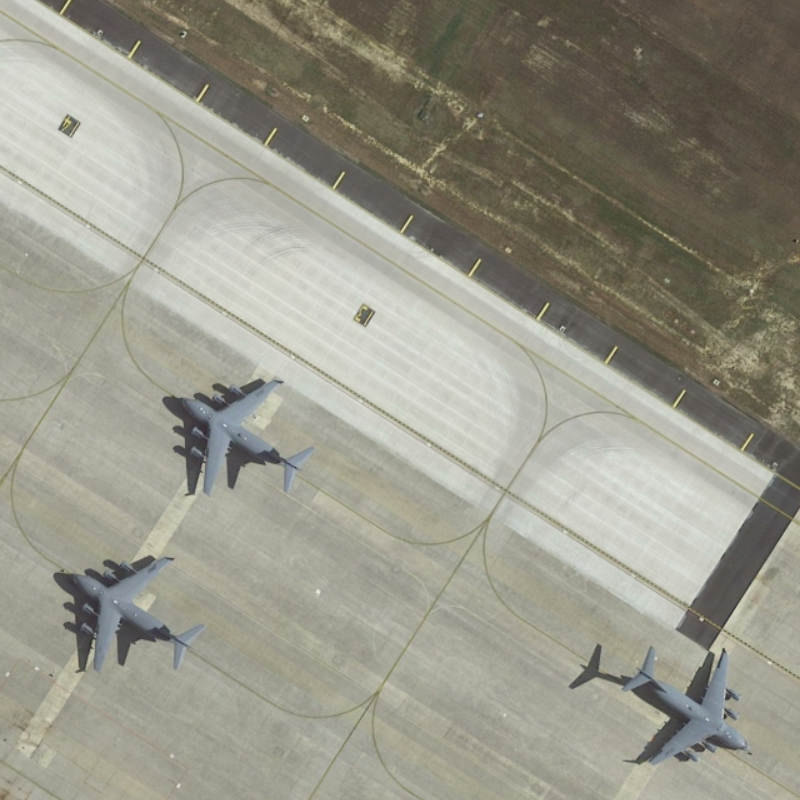A3: (165, 372, 325, 506), (614, 639, 761, 772), (59, 550, 209, 678)
